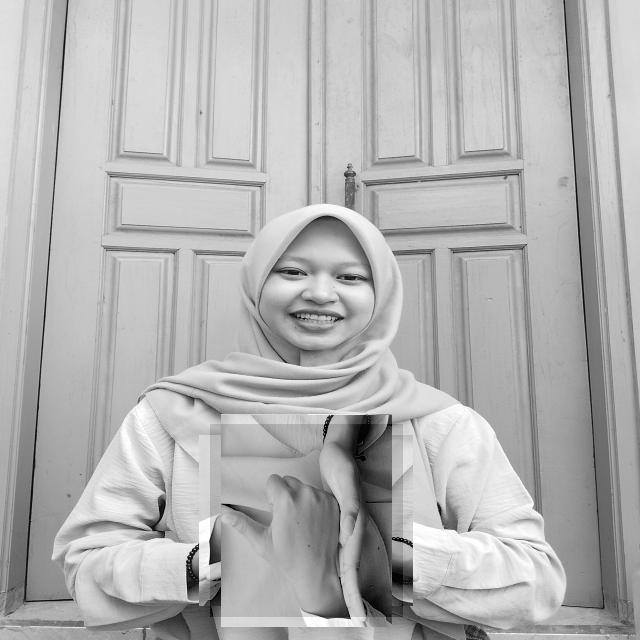cantik: (210, 424, 403, 617)
